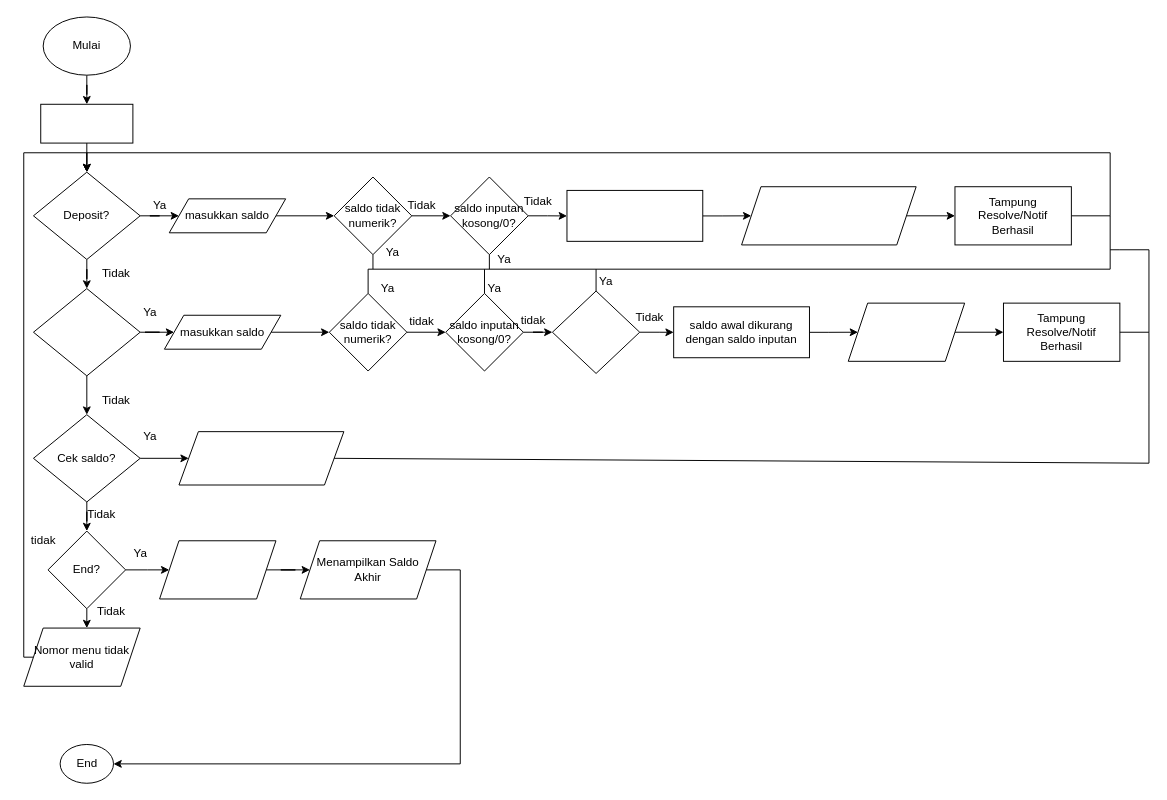
Some shapes in this 1167 by 800 pixel diagram are drawn without their labels. The centre of each missing label's shape, as x and y in pixels:
"Berhasil Menambah Saldo" goes at point 828,215.
"Menampilkan Saldo" goes at point 261,458.
"Mengeluarkan Resolve dan Notif Berhasil" goes at point 217,569.
"saldo awal ditambah dengan saldo inputan" goes at point 634,215.
"Saldo Berhasil dikurangi" goes at point 906,331.
"Saldo inputan lebih besar dari jumlah saldo?" goes at point 595,331.
"Set Nama dan Saldo Awal" goes at point 86,123.
"Withdraw?" goes at point 86,332.
